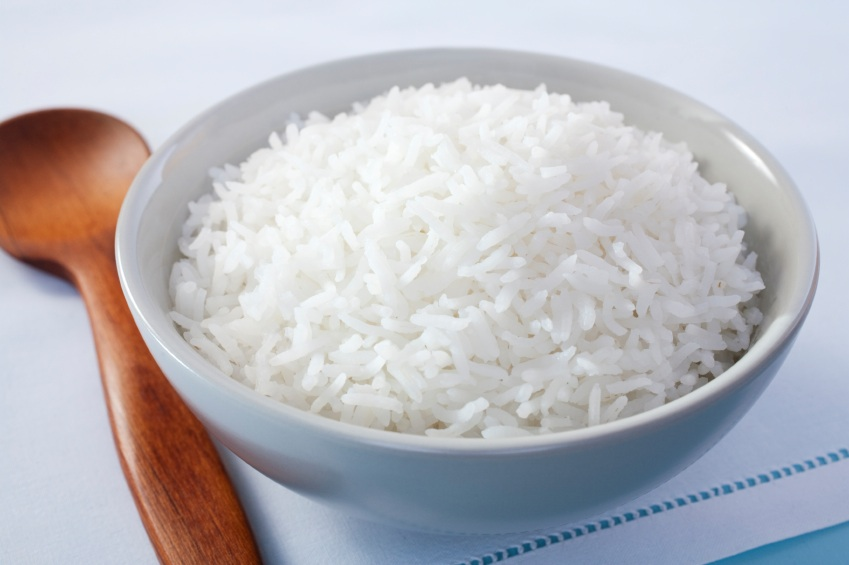rice: (145, 73, 790, 422)
